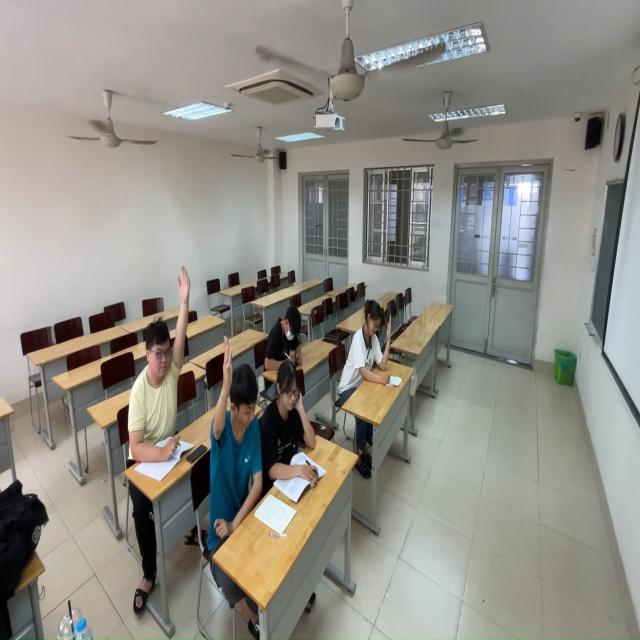raise_hand: (126, 258, 205, 467), (207, 336, 274, 550), (339, 293, 398, 399)
read: (255, 358, 316, 486), (247, 264, 301, 374)
